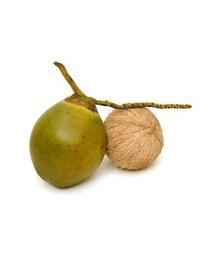coconut: (28, 93, 107, 190), (101, 105, 165, 172)
